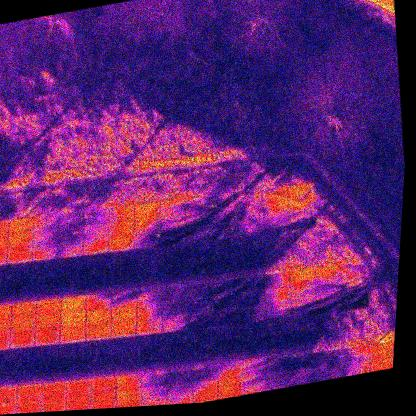Hotspot: (132, 230, 162, 250)
Normal: (109, 302, 139, 323), (34, 296, 64, 317), (7, 314, 38, 334), (106, 232, 135, 253), (113, 371, 142, 392), (64, 377, 93, 398), (83, 320, 113, 340), (32, 325, 62, 345), (58, 308, 88, 328), (80, 236, 110, 256), (40, 380, 67, 402), (217, 377, 245, 398), (109, 318, 138, 338), (5, 245, 34, 265), (365, 340, 394, 360), (106, 203, 135, 223), (14, 382, 43, 402), (57, 324, 87, 343), (7, 329, 37, 348), (8, 300, 38, 319), (132, 201, 162, 220), (114, 388, 142, 408), (89, 375, 117, 395), (34, 312, 63, 331), (5, 231, 34, 250), (6, 216, 35, 235), (83, 306, 113, 324), (288, 266, 316, 285), (108, 218, 136, 237), (14, 395, 42, 414), (58, 295, 87, 313), (89, 391, 117, 409), (64, 393, 92, 411), (38, 396, 67, 412), (314, 263, 341, 280), (368, 356, 393, 372)
Shadow: (189, 358, 217, 383), (164, 361, 192, 386), (164, 381, 194, 404), (190, 378, 219, 401), (266, 352, 295, 375), (341, 289, 370, 312), (109, 286, 139, 308), (290, 296, 320, 318), (241, 372, 269, 395), (139, 367, 167, 390), (267, 368, 296, 390), (84, 289, 113, 311), (236, 216, 265, 238), (210, 220, 239, 242), (238, 303, 267, 325), (161, 312, 191, 333), (235, 202, 265, 223), (55, 223, 85, 244), (340, 343, 370, 364), (212, 291, 240, 313), (187, 293, 215, 315), (135, 282, 163, 304), (241, 355, 269, 377), (314, 276, 343, 297), (160, 296, 189, 317), (139, 385, 168, 406), (262, 213, 291, 234), (286, 180, 315, 201), (215, 360, 244, 381), (236, 287, 266, 307), (134, 300, 164, 320), (234, 188, 264, 208), (289, 280, 317, 301), (289, 211, 317, 232), (159, 226, 187, 247), (288, 195, 316, 216), (315, 294, 343, 315), (135, 315, 164, 335), (338, 260, 367, 280), (184, 224, 213, 244), (55, 239, 84, 259), (30, 242, 59, 262), (184, 208, 213, 228), (264, 301, 294, 320), (292, 350, 319, 371), (292, 364, 320, 384), (264, 285, 292, 305), (263, 269, 291, 289), (262, 199, 290, 219), (210, 205, 238, 225), (82, 206, 110, 226), (317, 347, 345, 367), (235, 273, 264, 292), (183, 195, 212, 214), (159, 282, 189, 300), (132, 216, 162, 234), (187, 310, 215, 329), (340, 275, 368, 294), (160, 212, 188, 231), (82, 220, 110, 239), (31, 228, 59, 247), (317, 362, 345, 381), (212, 309, 240, 328), (56, 210, 85, 228), (263, 270, 291, 288), (186, 280, 214, 298), (261, 185, 289, 203), (32, 214, 60, 232), (211, 277, 238, 295), (159, 198, 186, 216), (342, 360, 371, 376)
